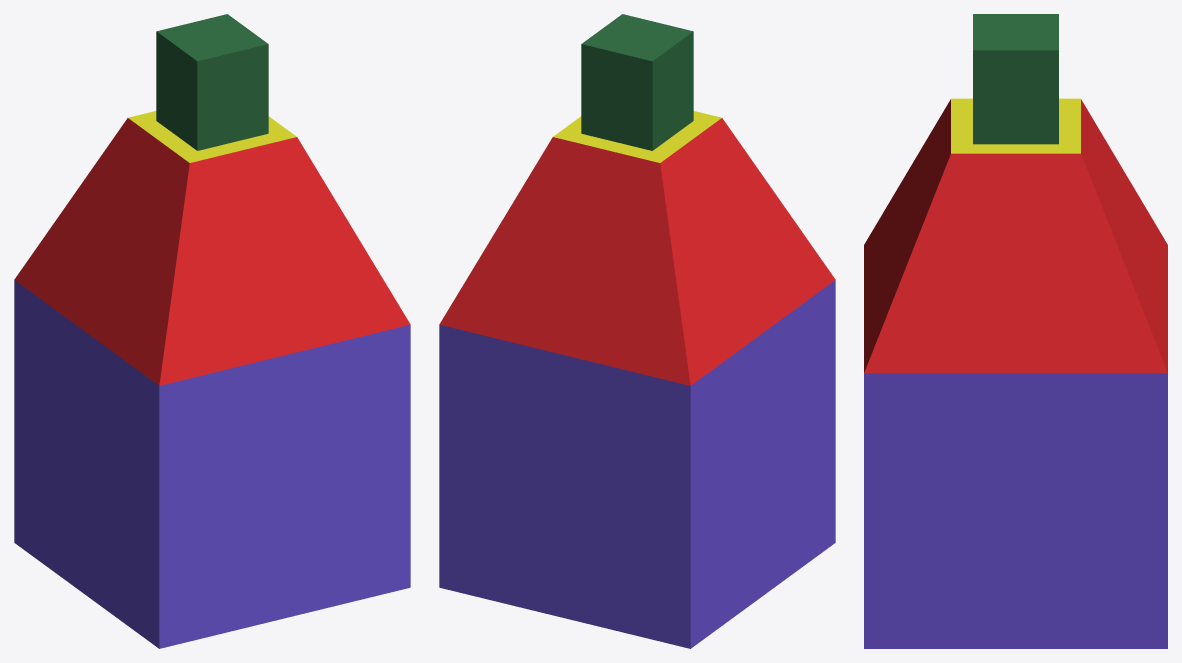
File: domecek.fbx
The picture shows the model from 3 angles, left to right: view 1: azimuth 30°, elevation 25°; view 2: azimuth 150°, elevation 25°; view 3: azimuth 270°, elevation 25°; orthographic projection. The views are drawn at different scales.
Visible parts, largest first — view 1: Cube; view 2: Cube; view 3: Cube.
Boxes of the visible parts, x1=… form: Cube: x1=14, y1=14, x2=410, y2=648; Cube: x1=439, y1=14, x2=835, y2=648; Cube: x1=864, y1=14, x2=1167, y2=648.
Size of the model in its own units: 200 by 401 by 200.
